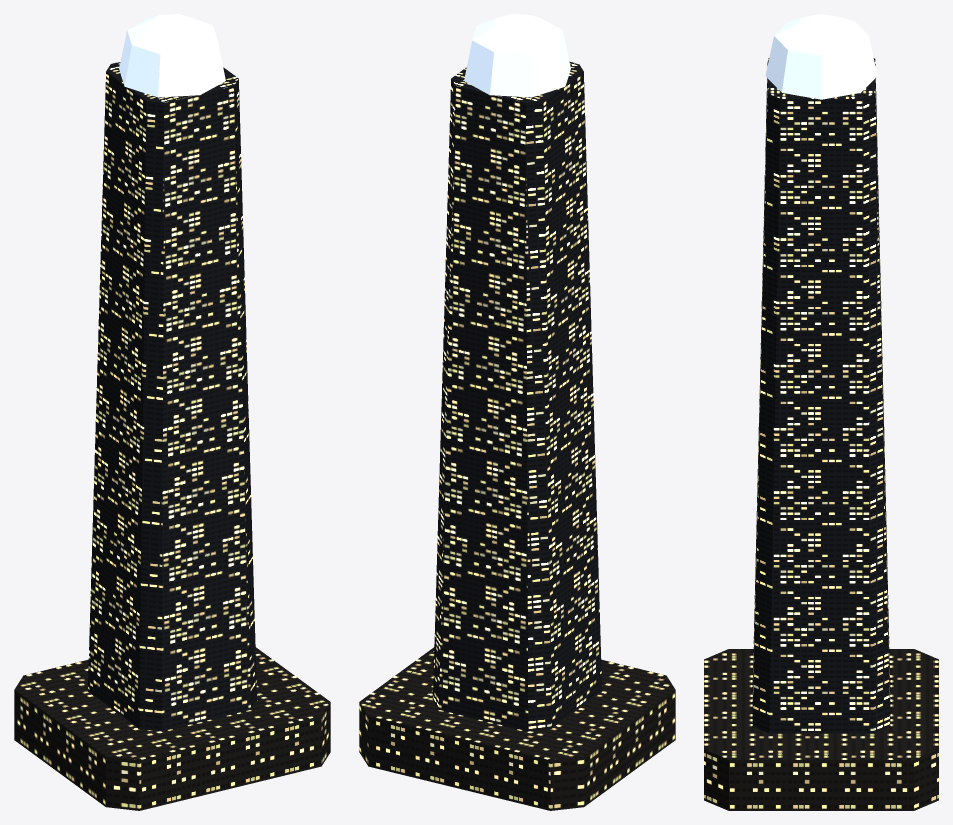
Rendered from one-raffles-place.glb.
3 renders of one model, left to right at view 1: azimuth 30°, elevation 25°; view 2: azimuth 150°, elevation 25°; view 3: azimuth 270°, elevation 25°, orthographic.
Visible parts, largest first — view 1: shaft, podium, crown; view 2: shaft, podium, crown; view 3: shaft, podium, crown.
Part boxes in pixels (<box>): shaft: <box>88,61,256,731</box>; podium: <box>14,647,330,810</box>; crown: <box>119,14,225,97</box>; shaft: <box>433,61,601,731</box>; podium: <box>359,647,675,810</box>; crown: <box>464,14,570,97</box>; shaft: <box>752,58,890,733</box>; podium: <box>704,649,938,810</box>; crown: <box>765,14,877,99</box>.
Bounding box in the file's own units: 91.2 × 280 × 81.6.
3 materials, 2 textured.
